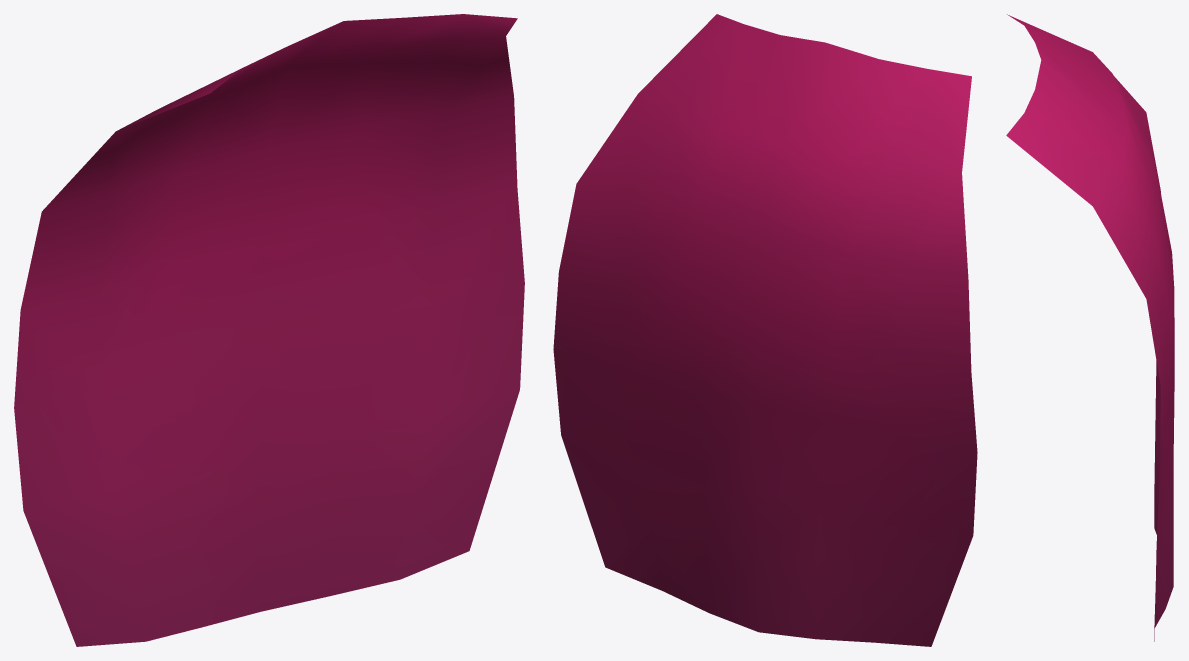
Rendered from wiz-cape.glb.
3 renders of one model, left to right at view 1: azimuth 30°, elevation 25°; view 2: azimuth 150°, elevation 25°; view 3: azimuth 270°, elevation 25°, orthographic. The views are drawn at different scales.
Visible parts, largest first — view 1: Mage_Cape; view 2: Mage_Cape; view 3: Mage_Cape.
Boxes of the visible parts, x1,y1,x2,y2 form: Mage_Cape: (14,14,524,646); Mage_Cape: (553,14,977,646); Mage_Cape: (1006,14,1174,641).
Size of the model in its own units: 0.9707 by 1.18 by 0.3426.
Materials: 1 (1 with a texture image).
